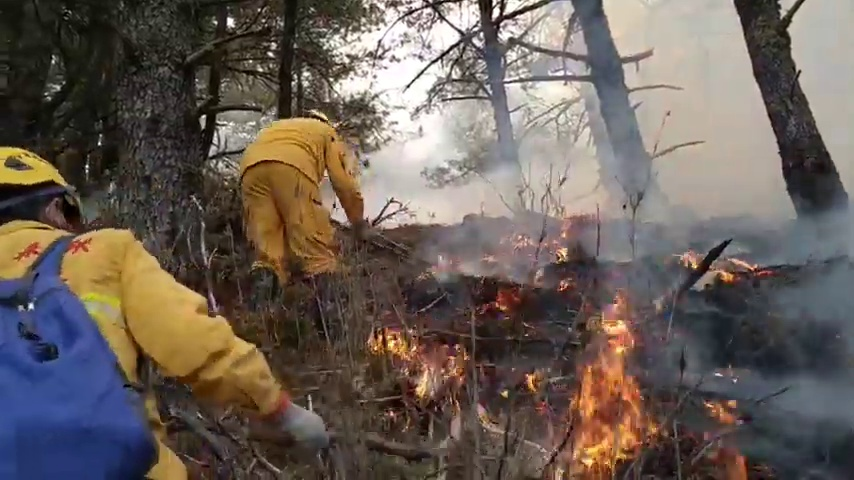fire: (575, 314, 643, 460), (369, 328, 407, 353), (554, 248, 569, 259)
